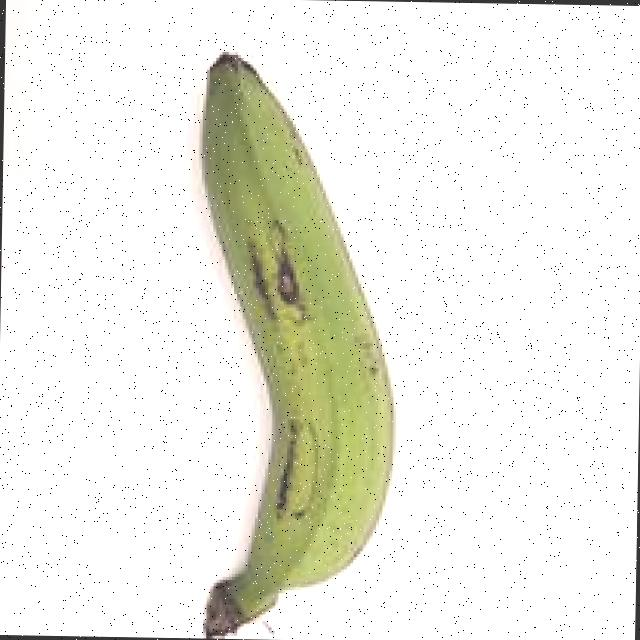Raw: (134, 31, 427, 640)
